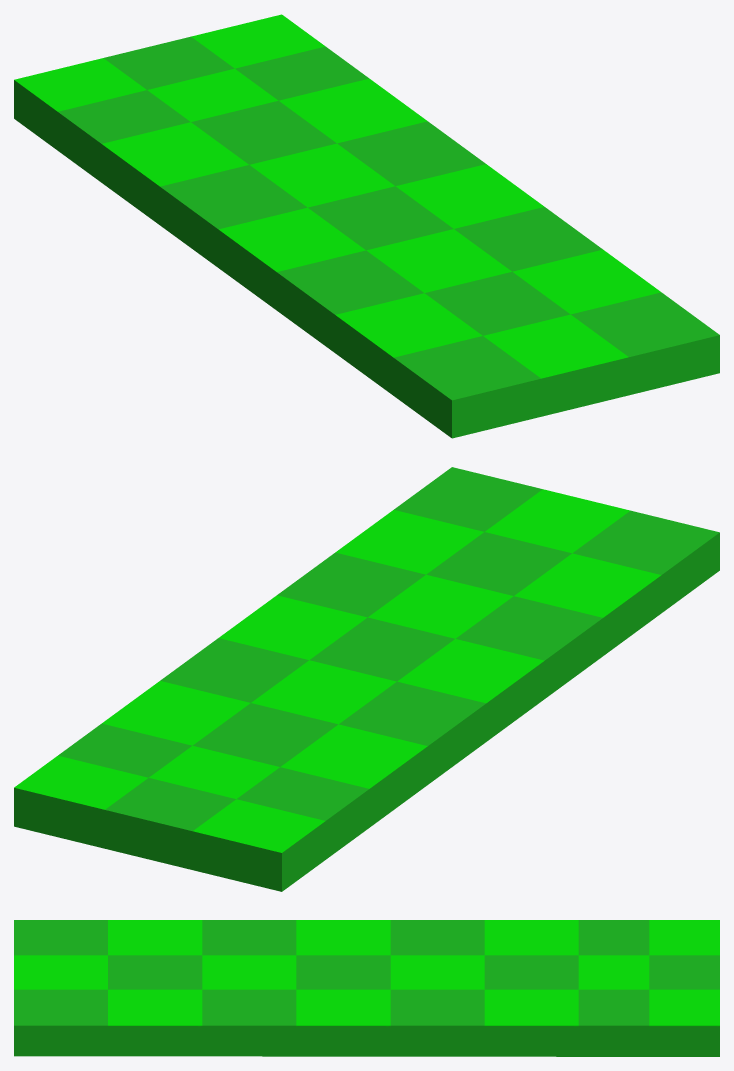
The model's file is Cargo_Grass.fbx.
3 views of the same model, one above another, from view 1: azimuth 30°, elevation 25°; view 2: azimuth 150°, elevation 25°; view 3: azimuth 270°, elevation 25° (orthographic). The views are drawn at different scales.
Parts seen in each view (by area): view 1: Cargo_House_4_Stand_25m.004; view 2: Cargo_House_4_Stand_25m.004; view 3: Cargo_House_4_Stand_25m.004.
Part boxes in pixels (x1=…): Cargo_House_4_Stand_25m.004: x1=14, y1=14, x2=719, y2=438; Cargo_House_4_Stand_25m.004: x1=14, y1=467, x2=719, y2=891; Cargo_House_4_Stand_25m.004: x1=14, y1=920, x2=719, y2=1056.
Bounding box in the file's own units: 883 × 123 × 2500.
